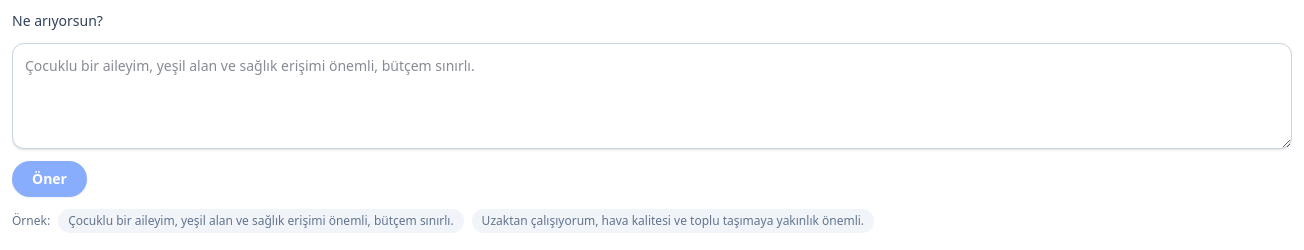
Test: AssistantClient › fills the textarea when an example prompt is clicked
Click the button "Çocuklu bir aileyim".
click(261, 221)  # box [58,209,464,233]
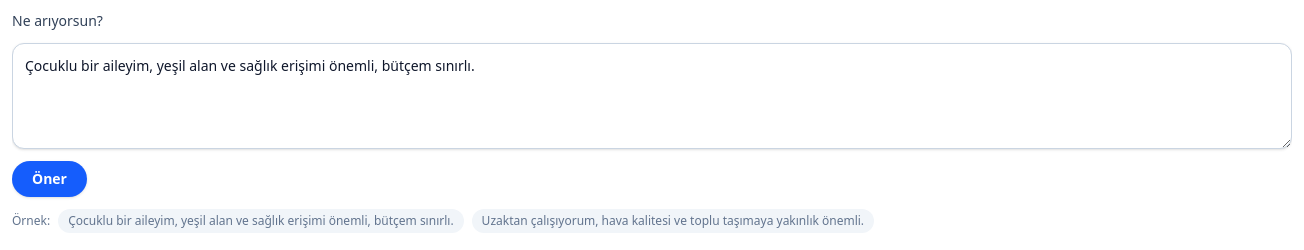
Expected: the text box labelled "Ne arıyorsun?" holds "Çocuklu bir aileyim, yeşil alan ve sağlık erişimi önemli, bütçem sınırlı.", [12,43,1292,149]
